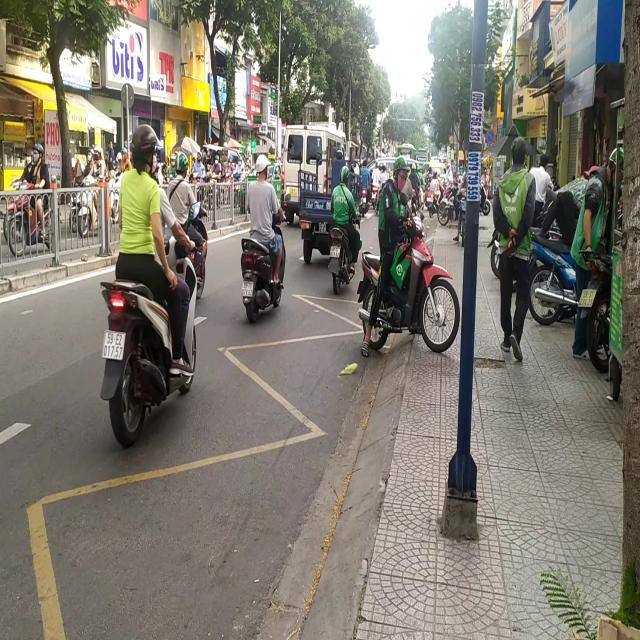bien_trang: (100, 325, 124, 362), (240, 284, 258, 298)
